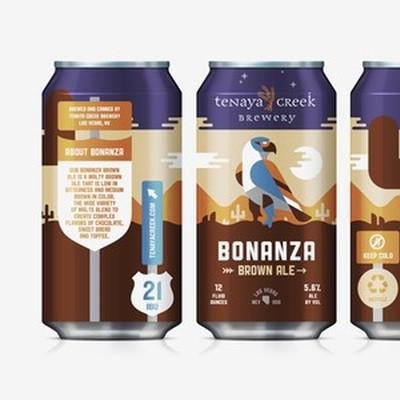beer: (42, 59, 400, 346)
